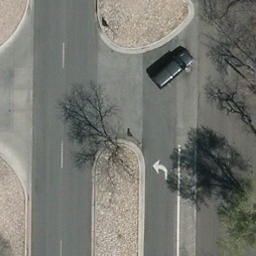car: (149, 50, 195, 89)
